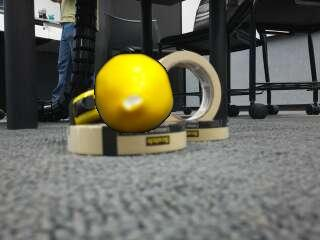lemon: (97, 55, 175, 134)
